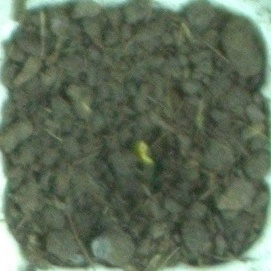pepper seed: (51, 54, 211, 221)
